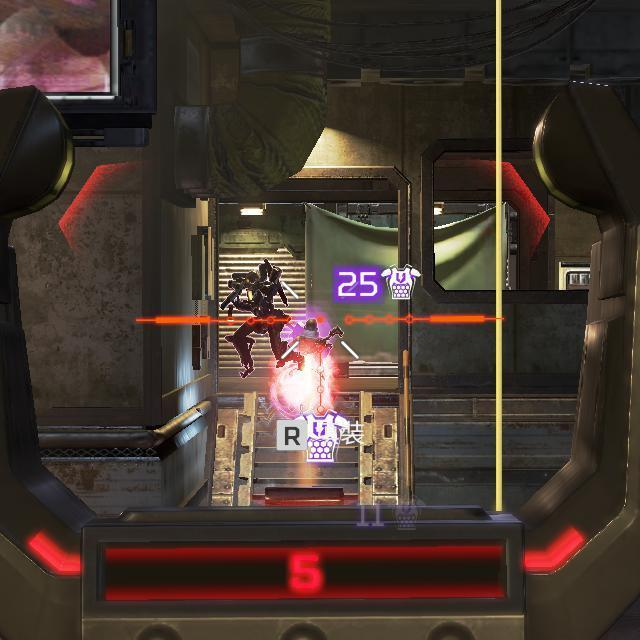avatar: (224, 257, 296, 379)
object: (266, 339, 344, 421)
